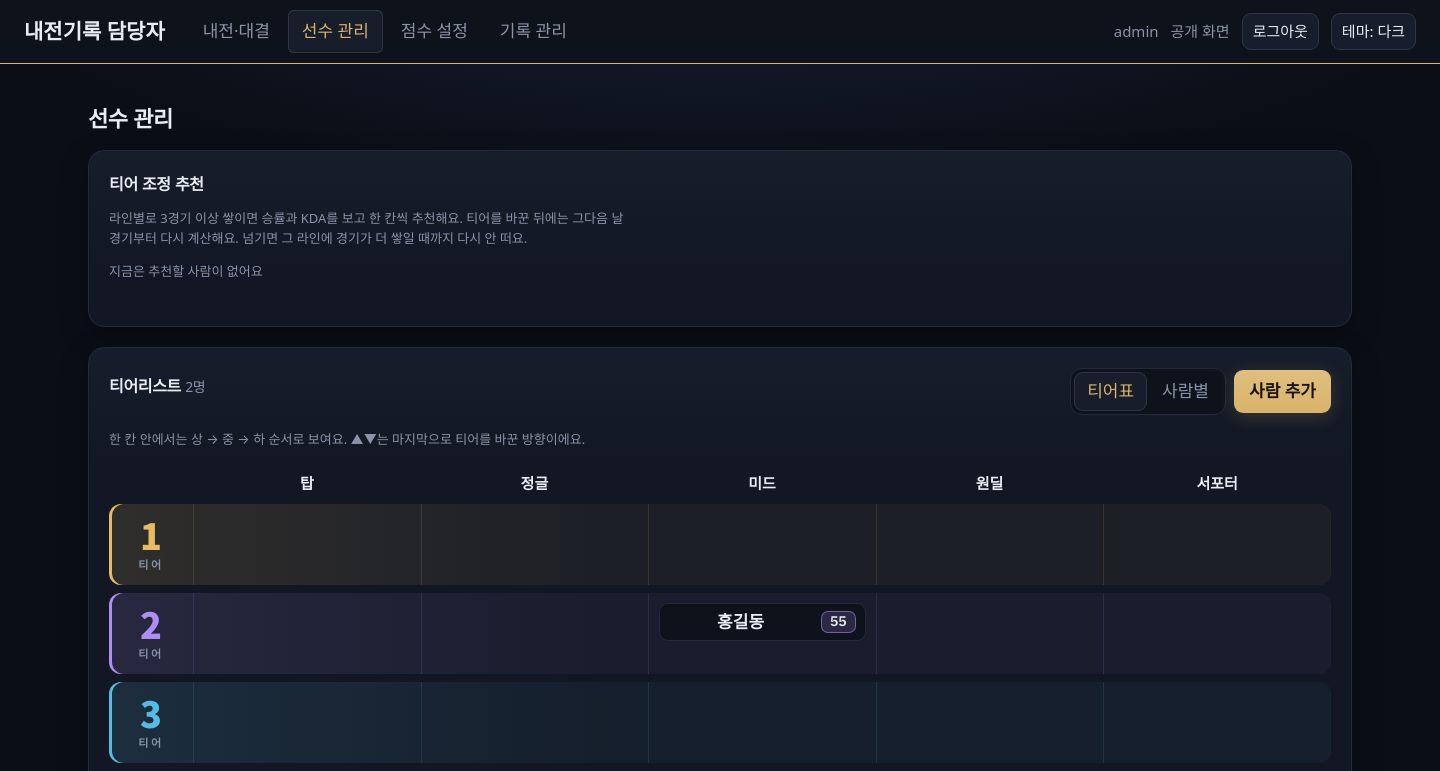
PlayerTierAdminPage › 편집기의 삭제는 두 번 눌러야 DELETE하고, 기록이 있으면 409 문구를 보여 준다
The image size is (1440, 771).
Click the button with aria-label "홍길동 수정": (762, 622) [659, 603, 866, 641]
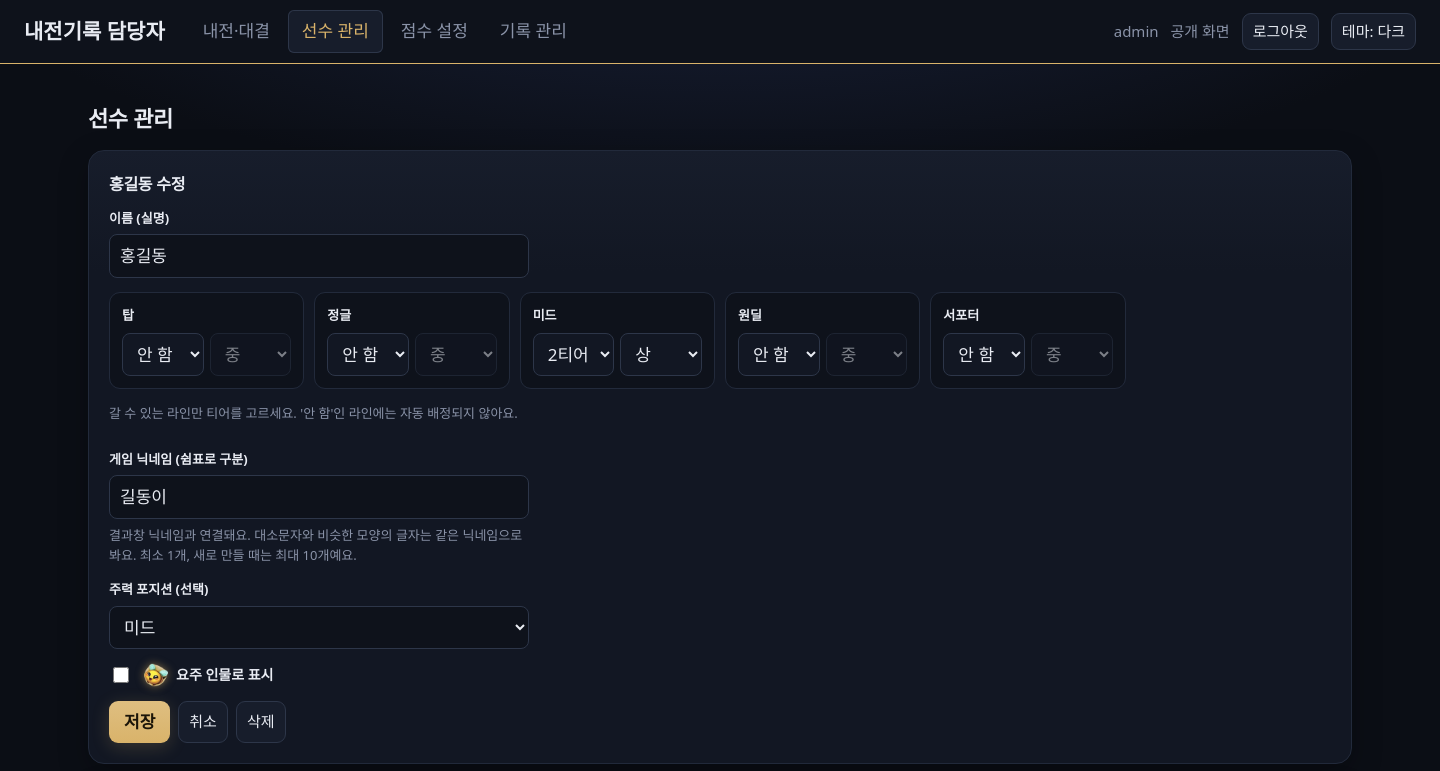
Result: the heading "홍길동 수정" is shown at [109, 171, 185, 195]
Click the button "삭제": (261, 722) [236, 701, 286, 743]
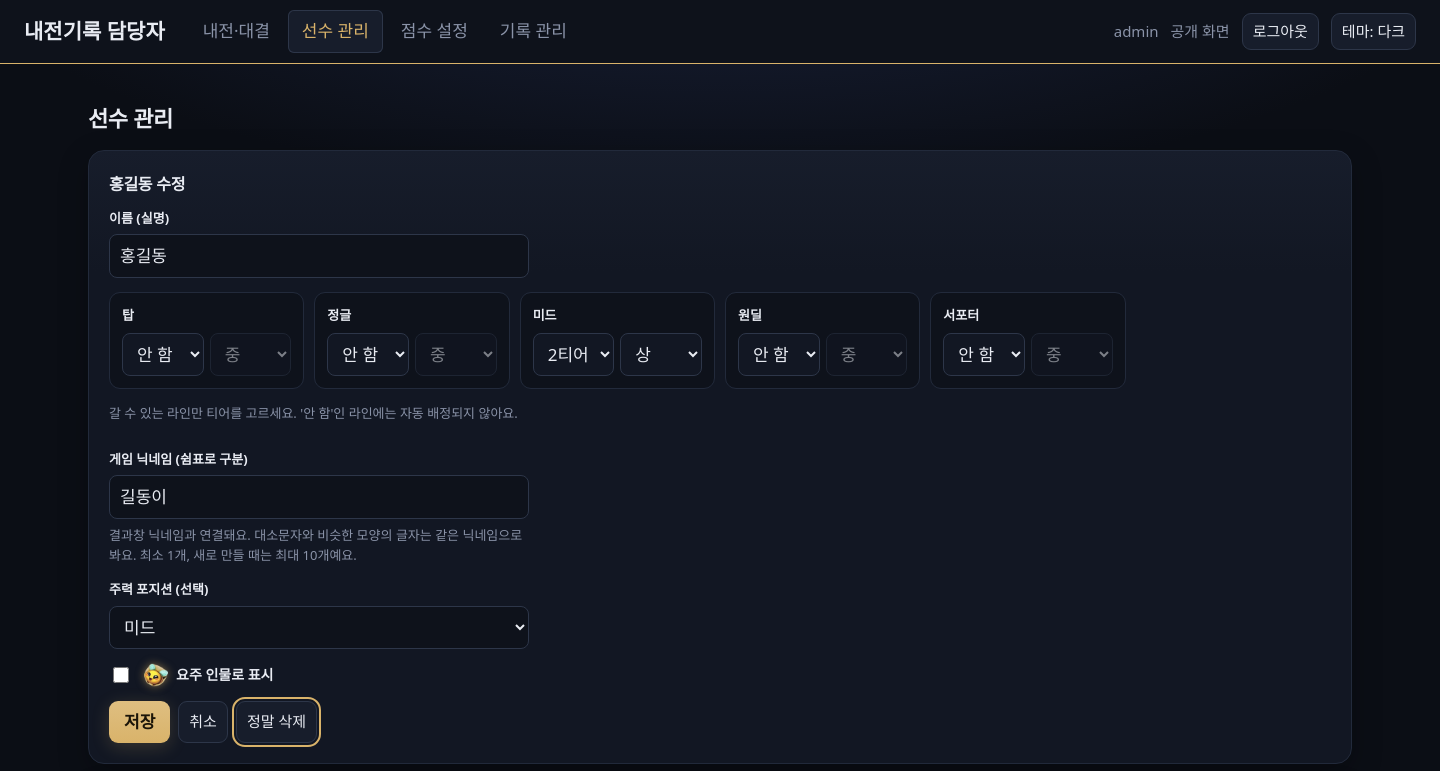
Click the button "정말 삭제": (276, 722) [236, 701, 317, 743]
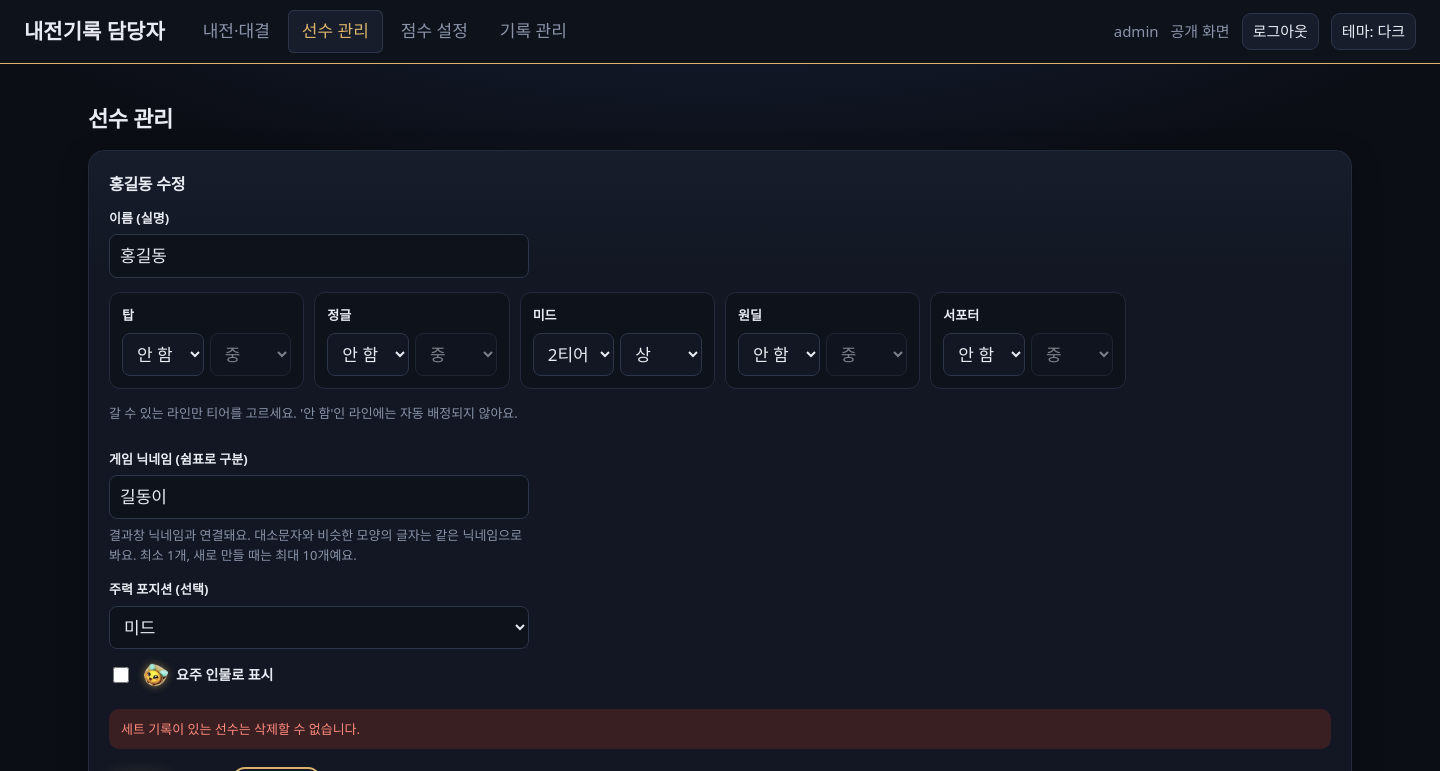
Result: the message reads "세트 기록이 있는 선수는 삭제할 수 없습니다." at [121, 720, 360, 738]
